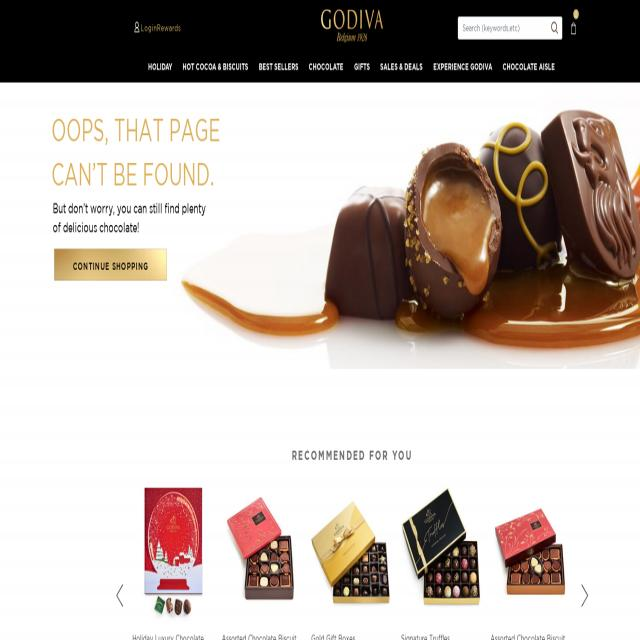button: (397, 468, 485, 623), (308, 468, 393, 624), (130, 469, 213, 623), (222, 469, 302, 624), (490, 465, 569, 621), (54, 249, 167, 281), (320, 7, 384, 43), (178, 52, 252, 82), (428, 52, 496, 82), (498, 52, 558, 82), (376, 52, 426, 82), (254, 52, 302, 82), (304, 52, 348, 82), (144, 52, 176, 82), (349, 52, 374, 82), (112, 582, 127, 608), (578, 582, 592, 608), (549, 19, 560, 37), (571, 21, 576, 35)
field: (458, 16, 562, 40)
